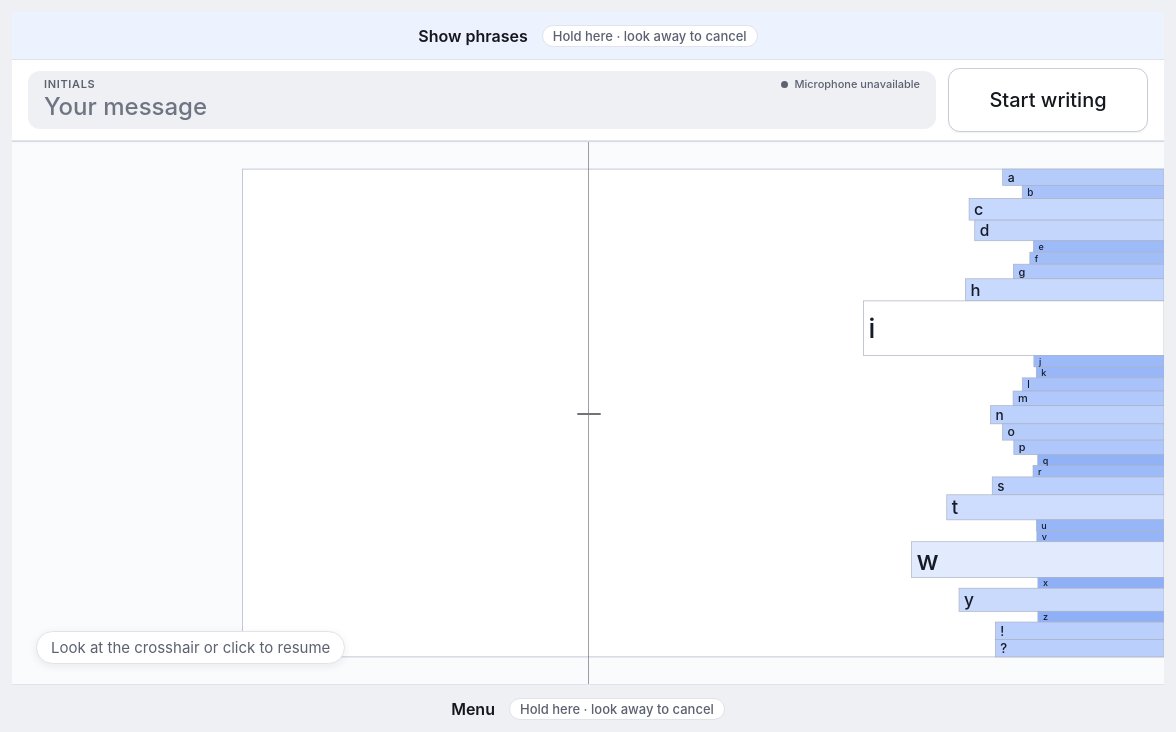
Test: keeps bottom controls hidden and toggles Dasher with a click or keyboard
Expected: the button "Menu Hold here · look away to cancel" is shown, [12,684,1164,731]
Click the button with aria-label "Resume Dasher" at (588, 413), box [12,142,1164,684]
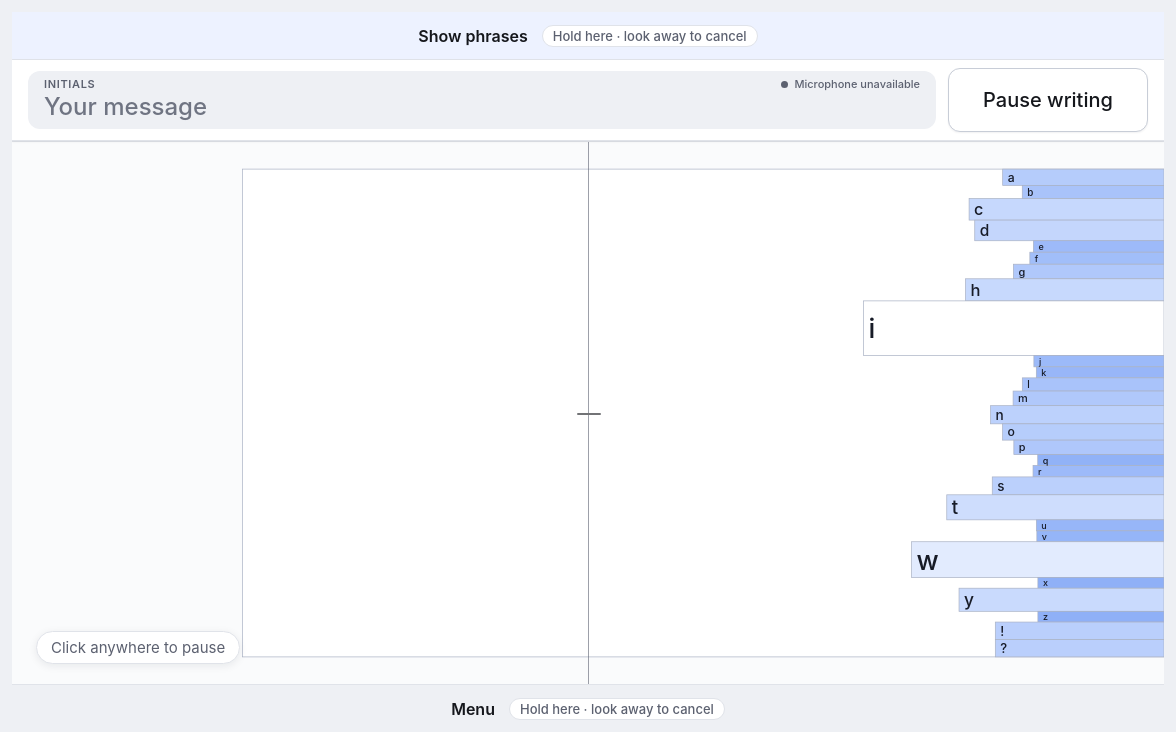
Expected: the button with aria-label "Pause Dasher" is pressed
Click the button with aria-label "Pause Dasher" at (588, 413), box [12,142,1164,684]
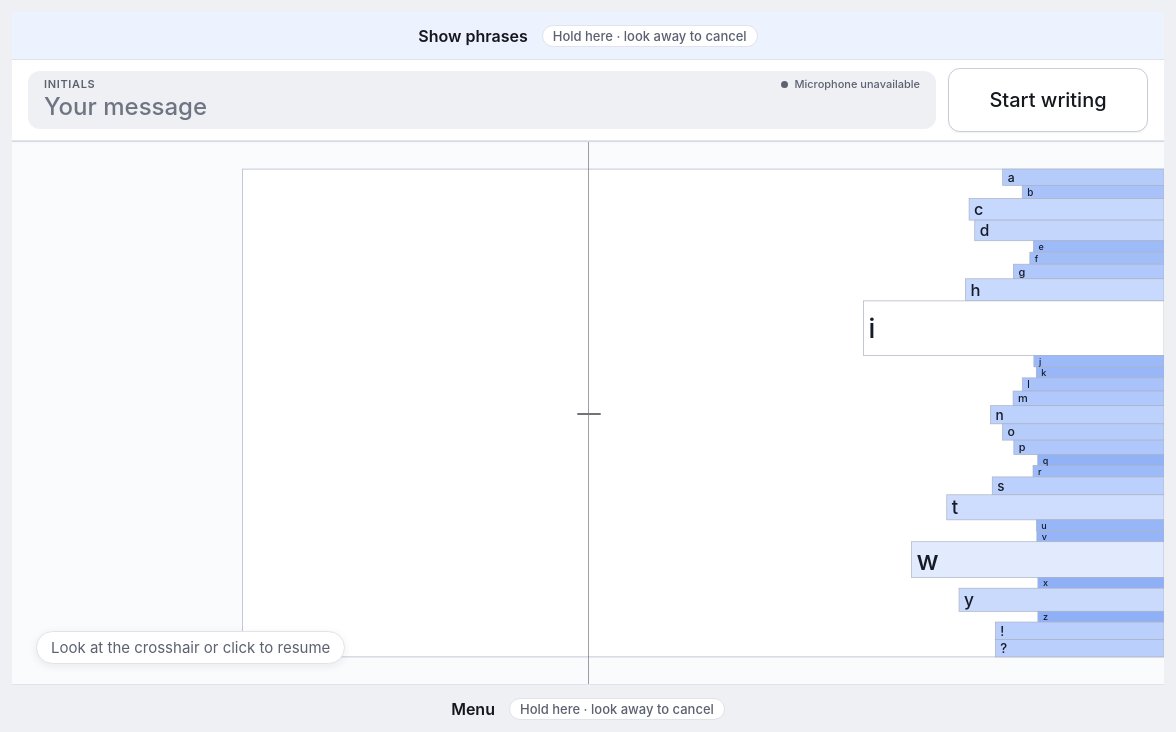
Expected: the button with aria-label "Resume Dasher" is not pressed
Press Space in the button with aria-label "Resume Dasher"
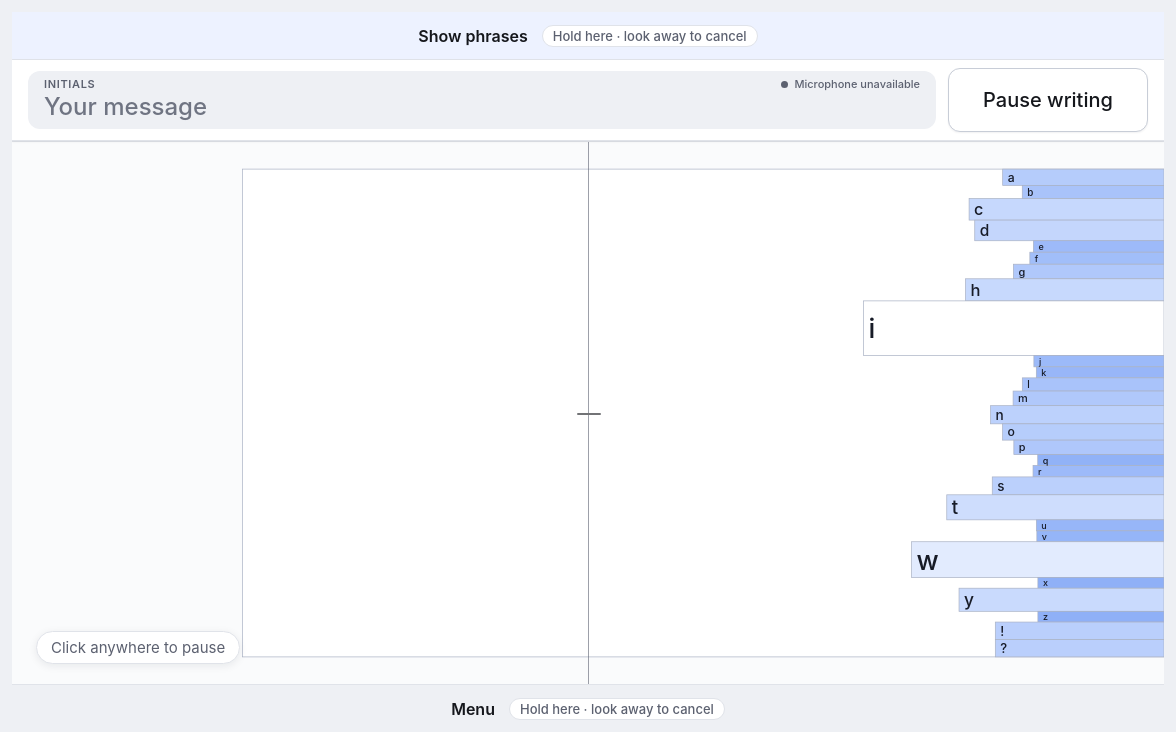
Expected: the button with aria-label "Pause Dasher" is shown
Press Escape
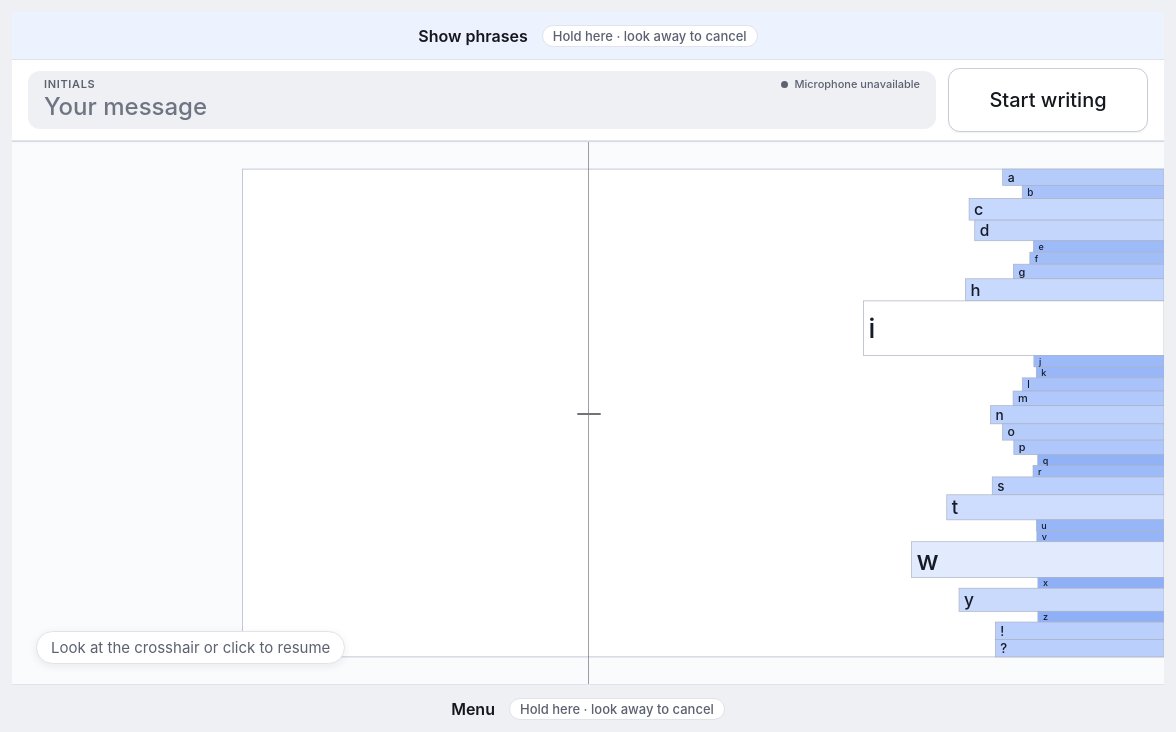
Expected: the button with aria-label "Resume Dasher" is shown
